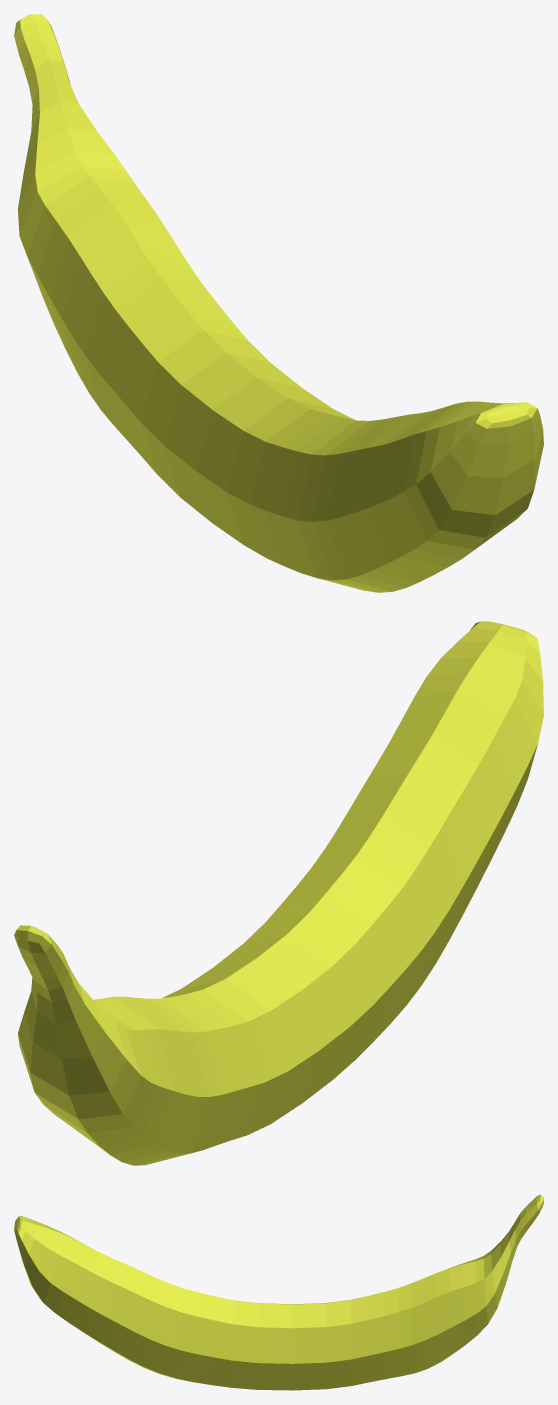
The model's file is muz.fbx.
3 renders of one model, top to bottom at view 1: azimuth 30°, elevation 25°; view 2: azimuth 150°, elevation 25°; view 3: azimuth 270°, elevation 25°, orthographic. The views are drawn at different scales.
Visible parts, largest first — view 1: Cube; view 2: Cube; view 3: Cube.
Boxes of the visible parts, bbox=[...] form: Cube: bbox=[14, 14, 543, 592]; Cube: bbox=[14, 621, 543, 1165]; Cube: bbox=[14, 1194, 543, 1390].
Bounding box in the file's own units: 41.07 × 112 × 278.
